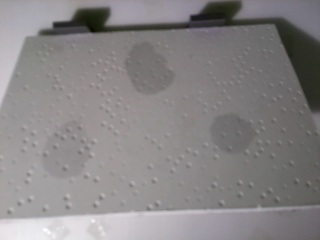Water_detected: (54, 127, 111, 172), (128, 44, 183, 84), (217, 123, 253, 158)
